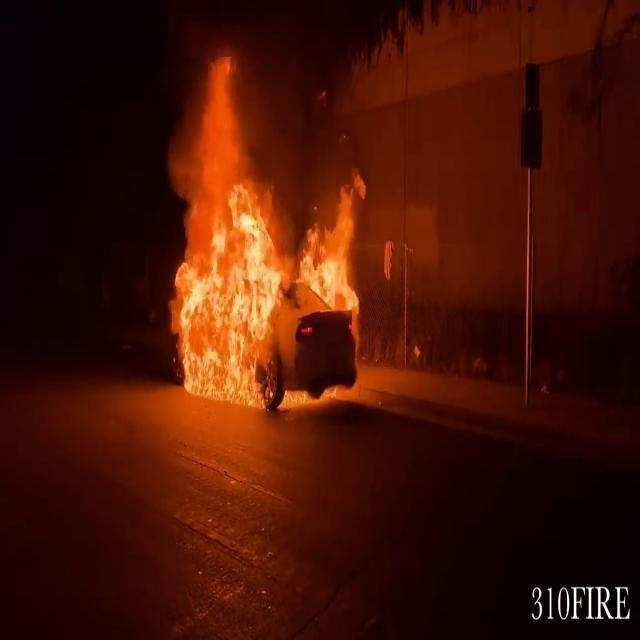Fire: (144, 64, 374, 404)
